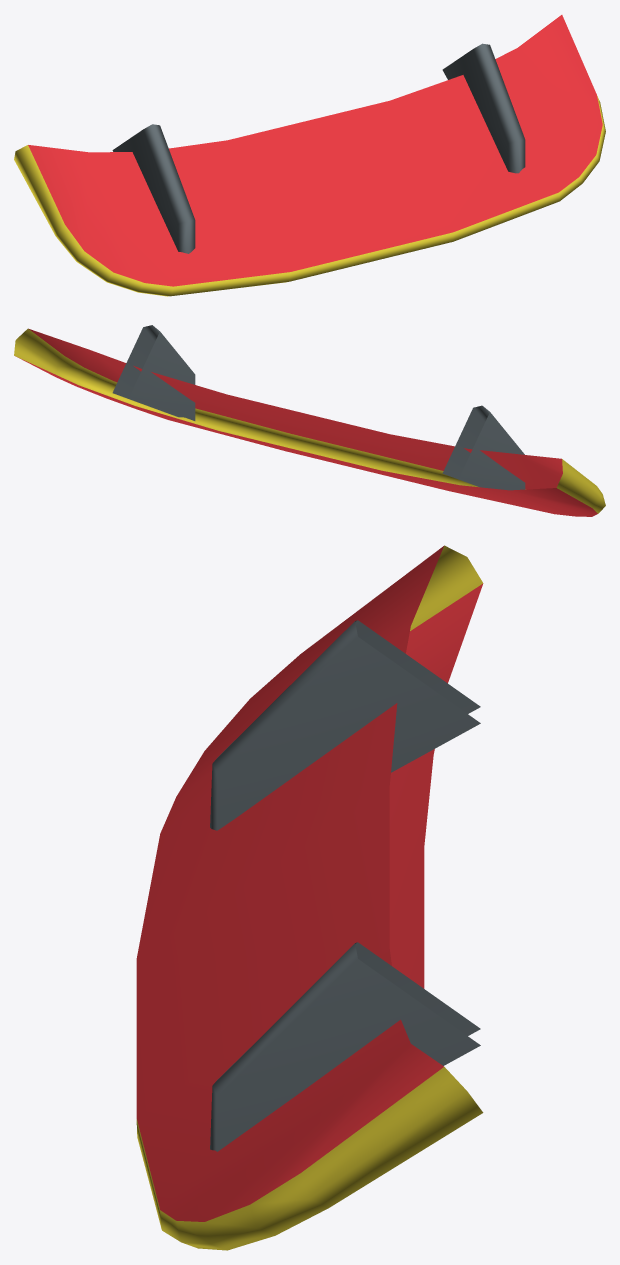
The model's file is Car_09_FrontBumper_Simple.fbx.
3 views of the same model, one above another, from view 1: azimuth 30°, elevation 25°; view 2: azimuth 150°, elevation 25°; view 3: azimuth 270°, elevation 25° (orthographic). The views are drawn at different scales.
Parts seen in each view (by area): view 1: Car_09_FrontBumper_Simple; view 2: Car_09_FrontBumper_Simple; view 3: Car_09_FrontBumper_Simple.
Part boxes in pixels (x1=…): Car_09_FrontBumper_Simple: x1=14, y1=15, x2=605, y2=296; Car_09_FrontBumper_Simple: x1=14, y1=325, x2=605, y2=516; Car_09_FrontBumper_Simple: x1=136, y1=545, x2=483, y2=1250.
Bounding box in the file's own units: 121 × 33.25 × 30.1.
